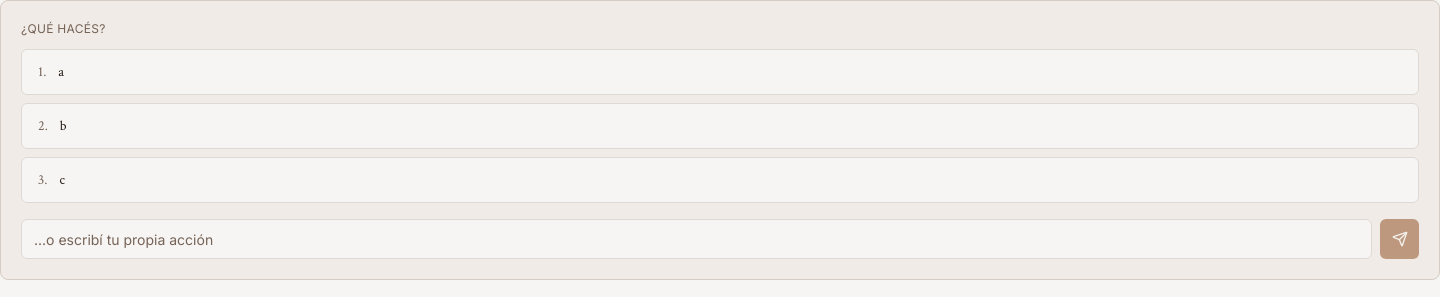
Acciones › el botón de enviar arranca deshabilitado y se habilita al tipear
Check: the button named "Enviar acción" is disabled, box [1380, 219, 1419, 259]
Type "abrir la puerta" into the field with placeholder "...o escribí tu propia acción".
click(697, 239); type("abrir la puerta")  # box [21, 219, 1372, 259]
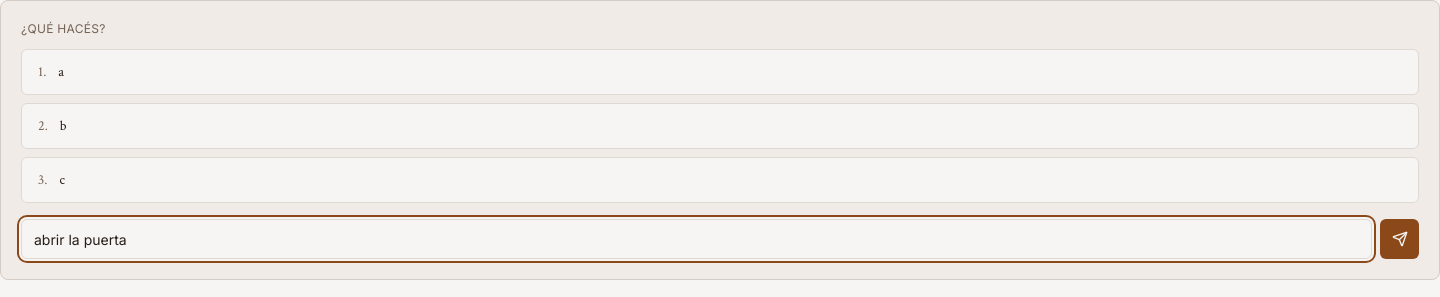
Check: the button named "Enviar acción" is enabled, box [1380, 219, 1419, 259]
